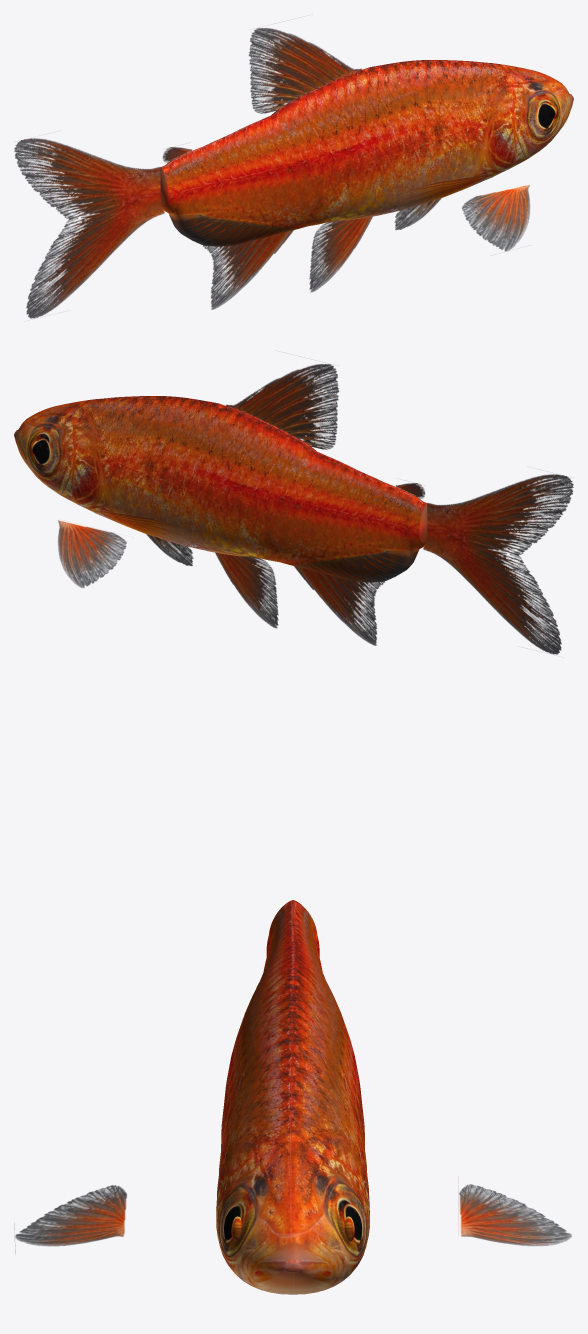
The model's file is species-ember.glb.
The picture shows the model from 3 angles, top to bottom: view 1: azimuth 30°, elevation 25°; view 2: azimuth 150°, elevation 25°; view 3: azimuth 270°, elevation 25°; orthographic projection. The views are drawn at different scales.
Parts seen in each view (by area): view 1: ember; view 2: ember; view 3: ember.
Part boxes in pixels (x1=…): ember: x1=14, y1=28, x2=573, y2=318; ember: x1=14, y1=364, x2=573, y2=654; ember: x1=14, y1=900, x2=571, y2=1294.
Bounding box in the file's own units: 0.022 × 0.0105 × 0.012.
Materials: 1 (1 with a texture image).
